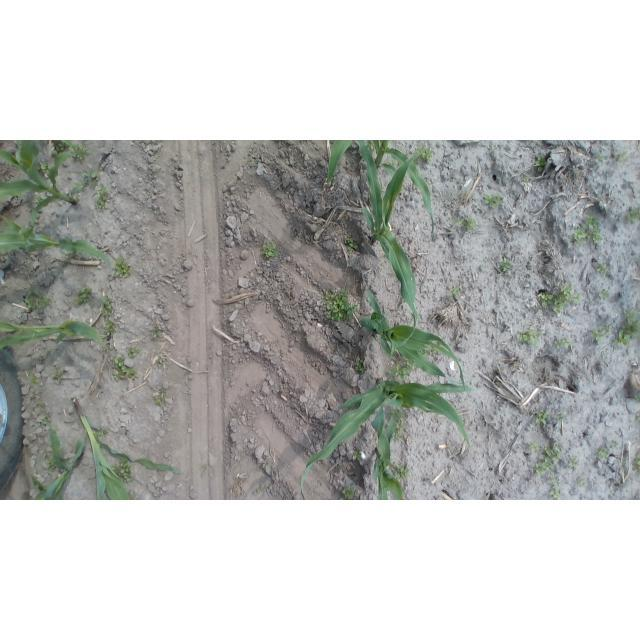Maize: (299, 378, 477, 500), (355, 140, 433, 350), (360, 288, 467, 393), (328, 141, 437, 240), (0, 139, 92, 224), (0, 217, 114, 276), (28, 424, 88, 500), (1, 320, 108, 353), (371, 400, 406, 500)
Weeds: (536, 281, 581, 314), (320, 290, 357, 323), (569, 214, 603, 246), (534, 442, 561, 476), (614, 311, 639, 346), (53, 141, 87, 161), (387, 360, 417, 381), (74, 170, 99, 195), (114, 357, 139, 382), (102, 296, 117, 337), (112, 457, 134, 483), (389, 410, 406, 442), (25, 291, 50, 312), (516, 329, 541, 346), (387, 460, 408, 480), (451, 217, 477, 232), (414, 145, 435, 163), (75, 287, 93, 308), (113, 259, 131, 279), (262, 242, 281, 260), (598, 444, 619, 460), (95, 183, 107, 210), (37, 403, 50, 426), (590, 327, 611, 341), (495, 257, 513, 273), (42, 452, 56, 472), (481, 194, 502, 206), (627, 207, 640, 225), (550, 479, 561, 500), (35, 161, 51, 174), (535, 155, 546, 173), (343, 238, 357, 251), (343, 486, 356, 500), (554, 414, 567, 428), (152, 393, 166, 406), (535, 412, 549, 425), (355, 359, 366, 375), (51, 370, 64, 383), (596, 265, 609, 276), (447, 288, 462, 297), (566, 457, 578, 468), (352, 450, 363, 461), (519, 173, 529, 185), (553, 338, 568, 346), (530, 441, 539, 454), (30, 375, 39, 387), (150, 326, 159, 338), (616, 153, 628, 162), (634, 454, 640, 471), (33, 196, 43, 206), (598, 290, 609, 299), (593, 156, 607, 163), (127, 349, 140, 356), (579, 476, 586, 489), (158, 356, 167, 365), (634, 394, 640, 403)
